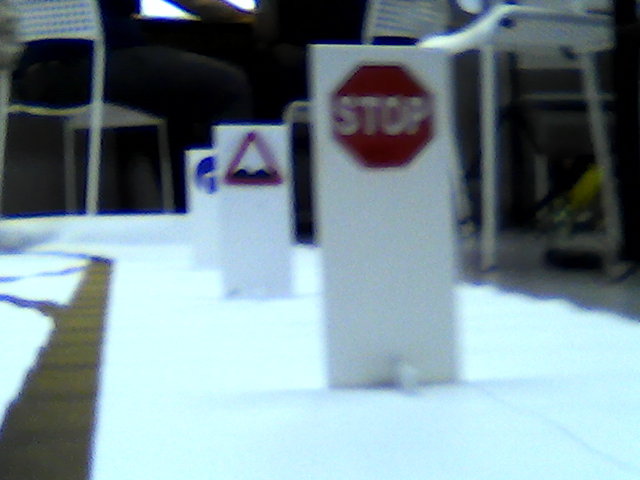Nerov: (221, 128, 283, 185)
Stop: (331, 58, 434, 172)
